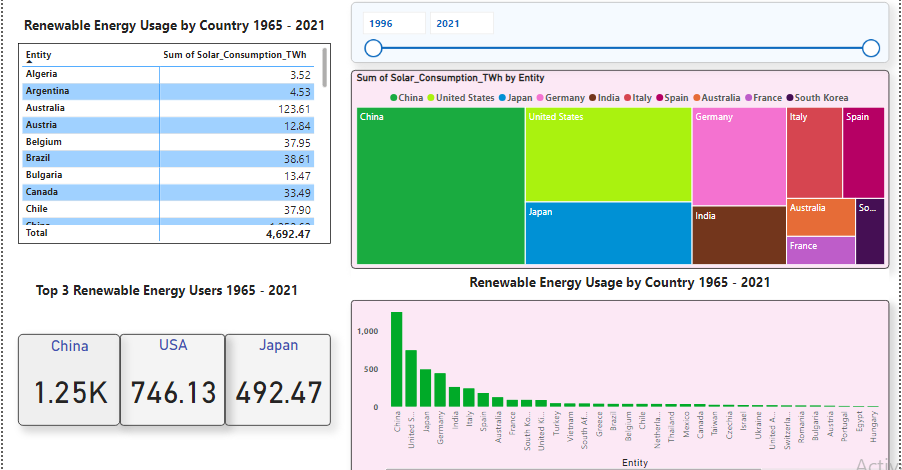

Layout of this report page (visuals, bound fields, positions):
{"tool":"powerbi","page":{"name":"Page 1","canvas":[1280,720],"ordinal":0},"visuals":[{"type":"lineClusteredColumnComboChart","fields":{"Category":["Solar_Data.Entity"],"Y":["Sum(Solar_Data.Solar_Consumption_TWh)"]},"box":[497.1,465.7,768.6,254.3],"z":0},{"type":"treemap","fields":{"Group":["Solar_Data.Entity"],"Values":["Sum(Solar_Data.Solar_Consumption_TWh)"]},"box":[497.1,137.1,768.6,284.3],"z":1000},{"type":"pivotTable","fields":{"Rows":["Solar_Data.Entity"],"Values":["Sum(Solar_Data.Solar_Consumption_TWh)"]},"box":[21.4,98.6,447.1,287.1],"z":2000},{"type":"card","title":"China","fields":{"Values":["Sum(Solar_Data.Solar_Consumption_TWh)"]},"box":[21.4,514.3,145.7,131.4],"z":3000},{"type":"card","title":"Japan","fields":{"Values":["Sum(Solar_Data.Solar_Consumption_TWh)"]},"box":[317.1,514.3,151.4,131.4],"z":4000},{"type":"card","title":"USA","fields":{"Values":["Sum(Solar_Data.Solar_Consumption_TWh)"]},"box":[167.1,514.3,150,131.4],"z":5000},{"type":"textbox","box":[0,432.9,468.6,45.7],"z":6000},{"type":"textbox","box":[21.4,54.3,447.1,44.3],"z":7000},{"type":"slicer","fields":{"Values":["Solar_Data.Year"]},"box":[497.1,40,768.6,87.1],"z":8000},{"type":"textbox","box":[497.1,421.4,768.6,44.3],"z":9000}]}

Visuals, with their boxes in screenshot pixels (x1, y1, x2, y2):
lineClusteredColumnComboChart - Solar_Data.Entity x Sum(Solar_Data.Solar_Consumption_TWh): 351 296 882 469
treemap - Solar_Data.Entity x Sum(Solar_Data.Solar_Consumption_TWh): 351 69 882 266
pivotTable - Solar_Data.Entity x Sum(Solar_Data.Solar_Consumption_TWh): 22 42 331 241
"China" card: 22 330 123 421
"Japan" card: 226 330 331 421
"USA" card: 123 330 226 421
textbox: 7 274 331 305
textbox: 22 12 331 42
slicer - Solar_Data.Year: 351 2 882 62
textbox: 351 266 882 296
